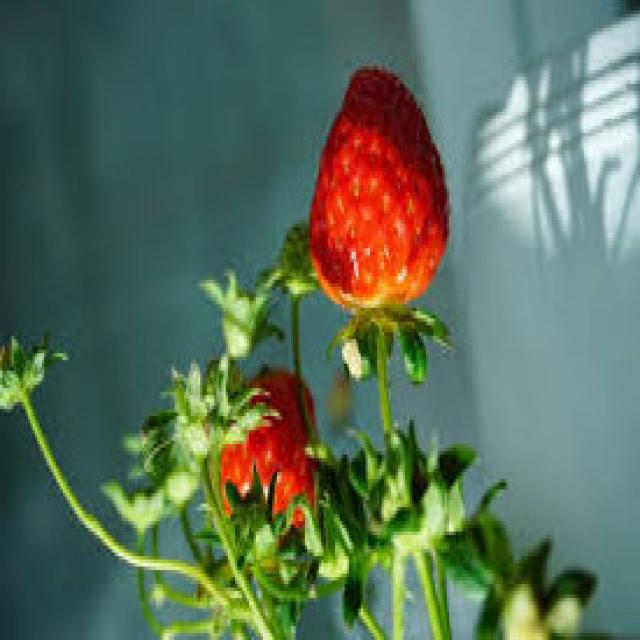mature: (307, 64, 451, 313)
